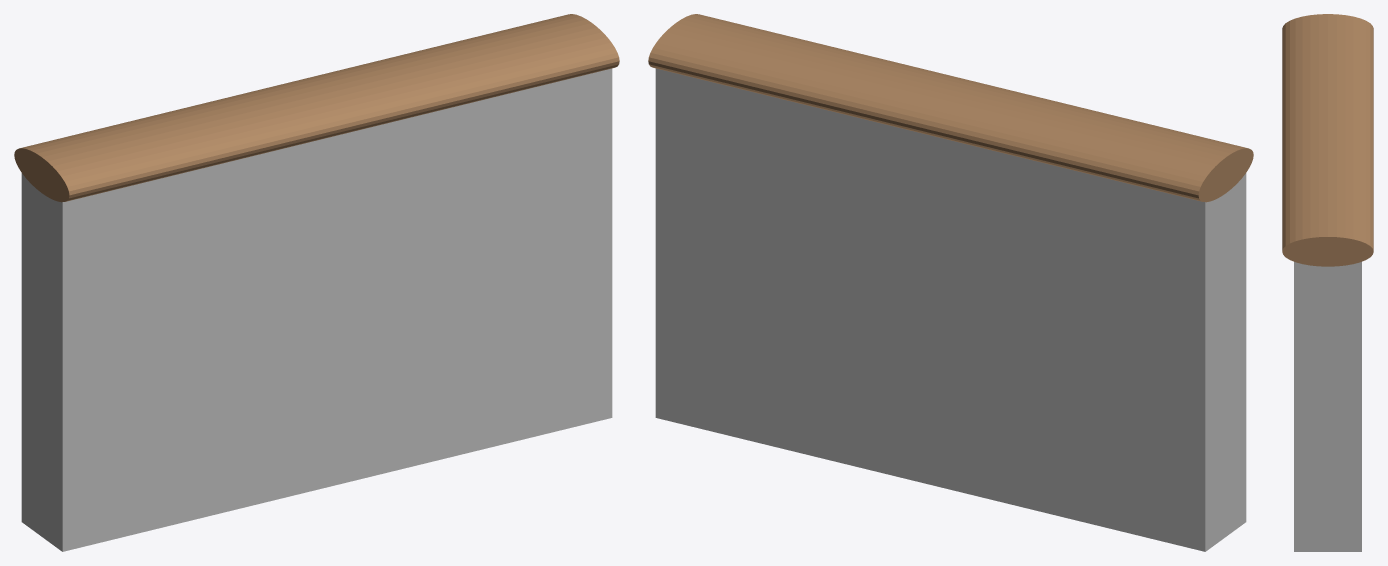
The model's file is frontfence_1.fbx.
3 renders of one model, left to right at view 1: azimuth 30°, elevation 25°; view 2: azimuth 150°, elevation 25°; view 3: azimuth 270°, elevation 25°, orthographic. The views are drawn at different scales.
Visible parts, largest first — view 1: Cube; view 2: Cube; view 3: Cube.
Part boxes in pixels (bbox=[...]): Cube: bbox=[14, 14, 619, 551]; Cube: bbox=[648, 14, 1253, 551]; Cube: bbox=[1282, 14, 1373, 551].
Bounding box in the file's own units: 405 × 267 × 70.38.
